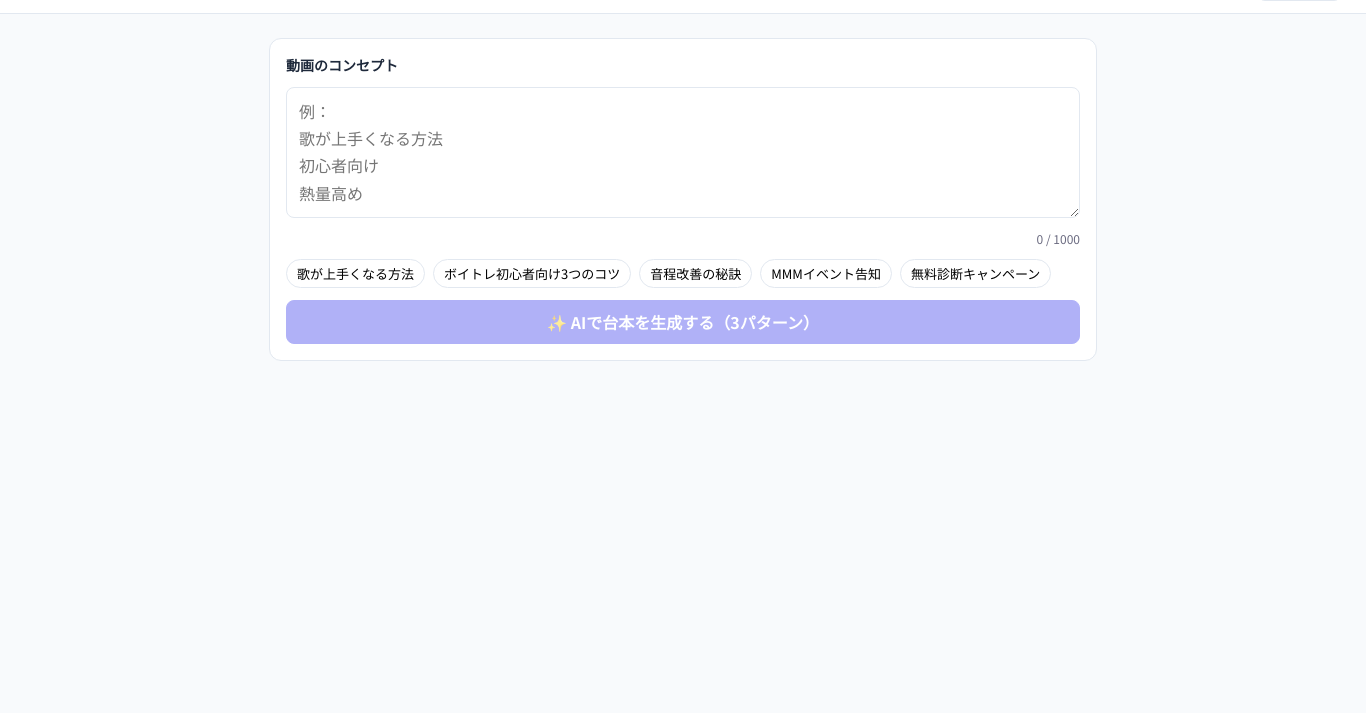
Scenario: ScriptMode → Wizard の受け渡し（App） › 受け渡し後にWizardを再renderしても、ScriptModeへ戻らず台本のカードが保たれる
The width and height of the screenshot is (1366, 713).
Step 1. Type "歌が上手くなる方法" into the text box labelled "動画のコンセプト" → (683, 152), box [286,87,1080,218]
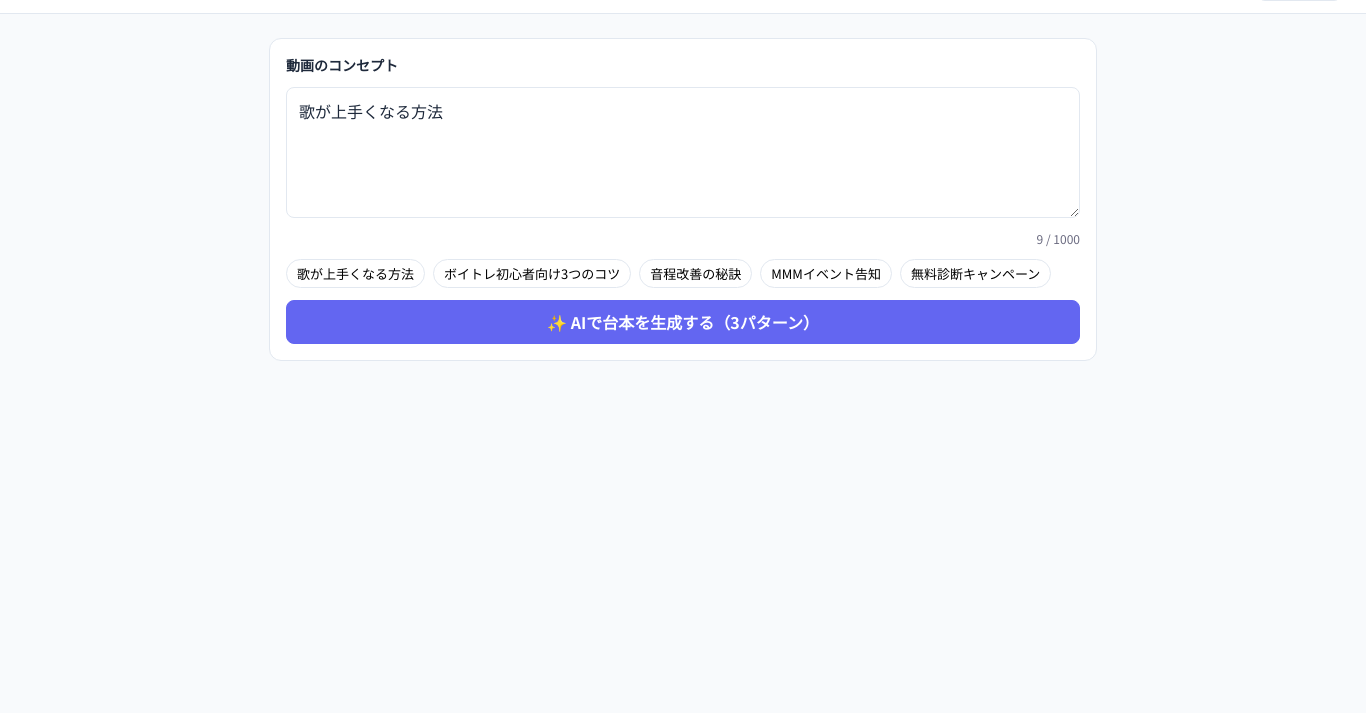
Step 2. Click the button "✨ AIで台本を生成する（3パターン）" → (683, 322), box [286,300,1080,344]
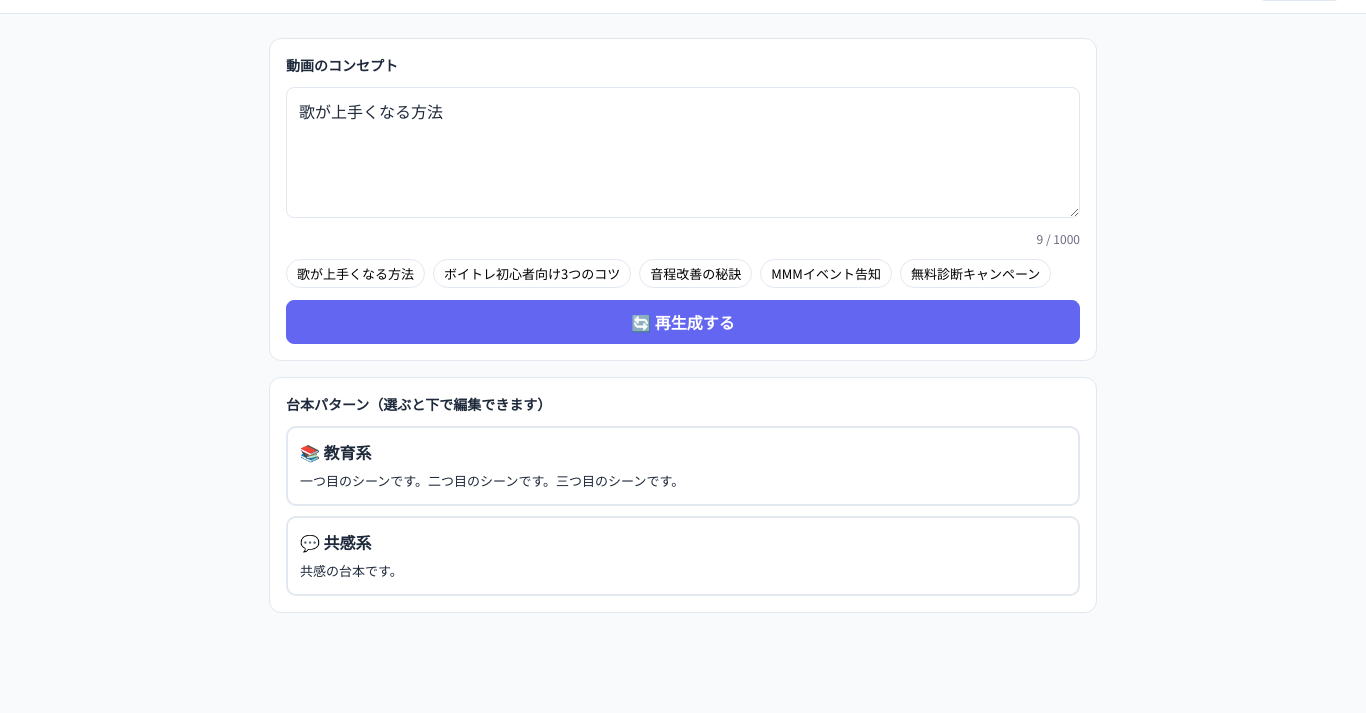
Result: the element named "台本パターン" is shown at [286,426,1080,596]
Step 3. Click the radio button labelled "📚 教育系 一つ目のシーンです。二つ目のシーンです。三つ目のシーンです。" → (348, 452), box [286,426,1080,506]
(page scrolled)
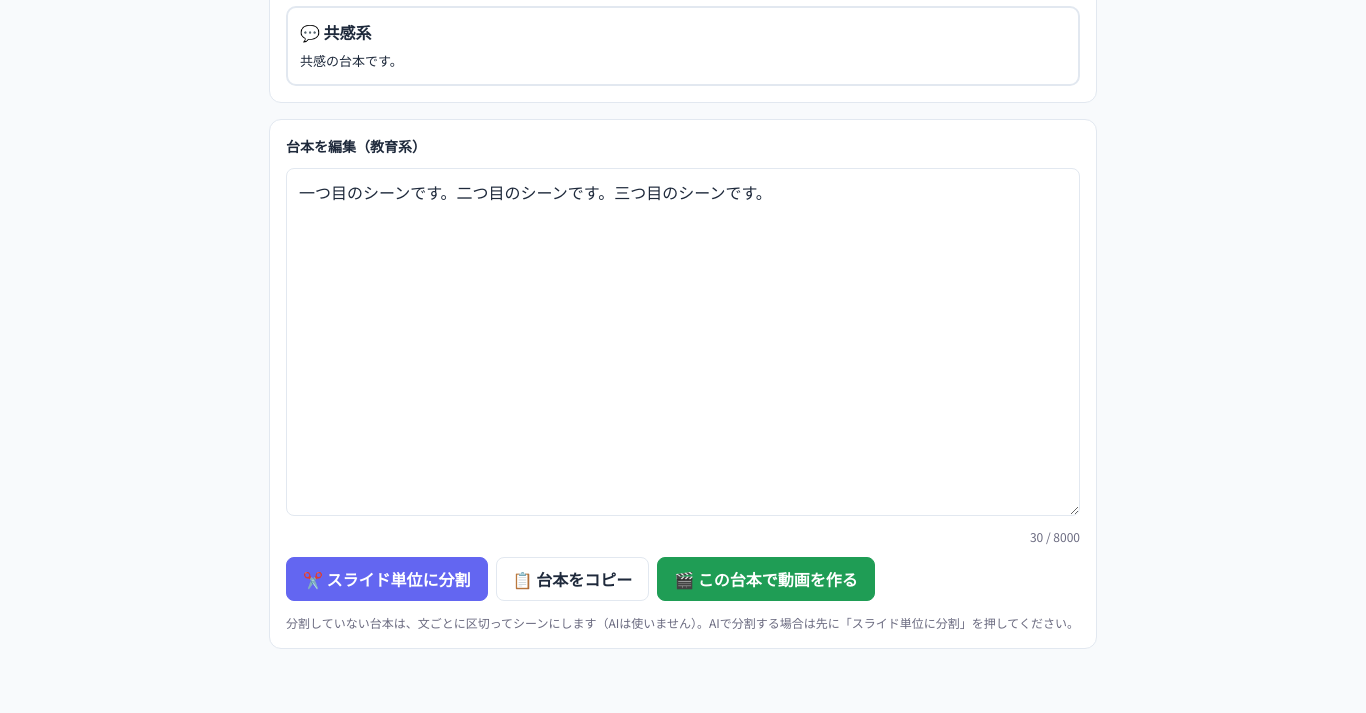
Step 4. Click the button "🎬 この台本で動画を作る" → (766, 579), box [657,557,875,601]
(page scrolled)
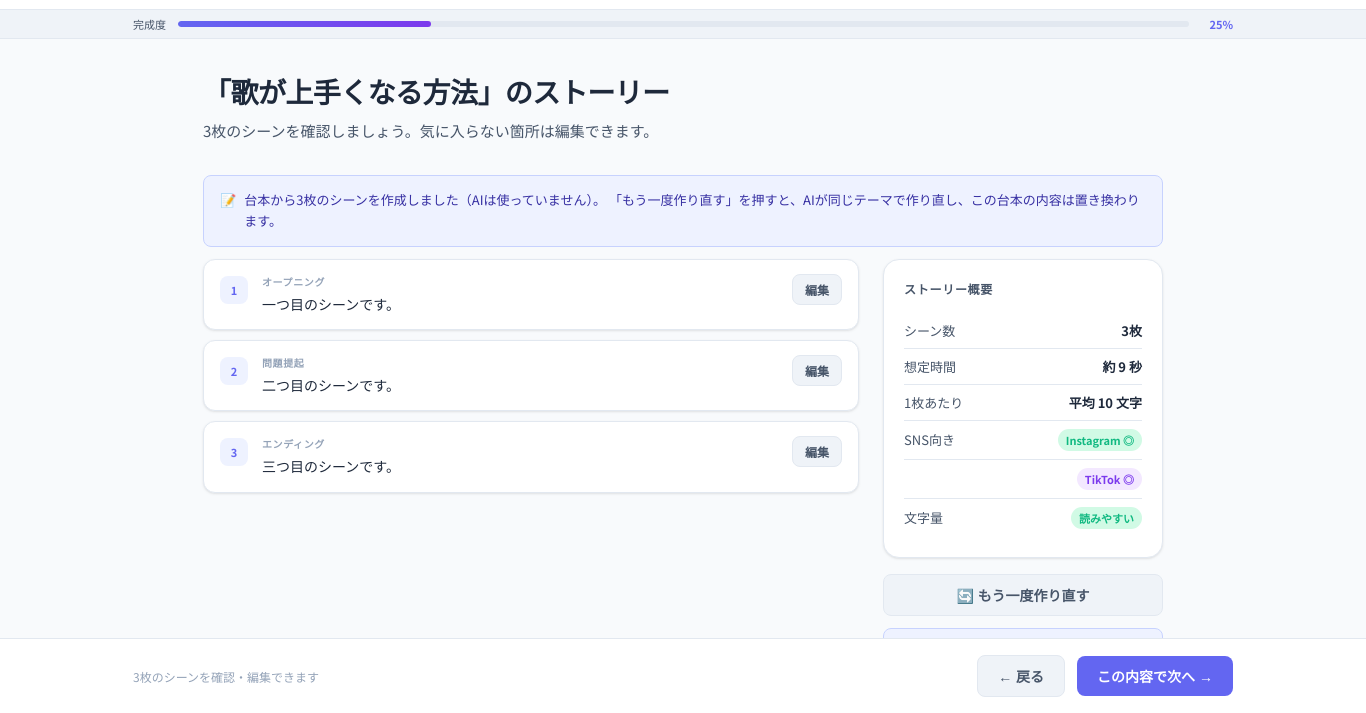
Result: the heading "「歌が上手くなる方法」のストーリー" is shown at [203,71,670,111]
Step 5. Click the button "編集" in the row of "一つ目のシーンです。" → (817, 289), box [792,274,842,305]
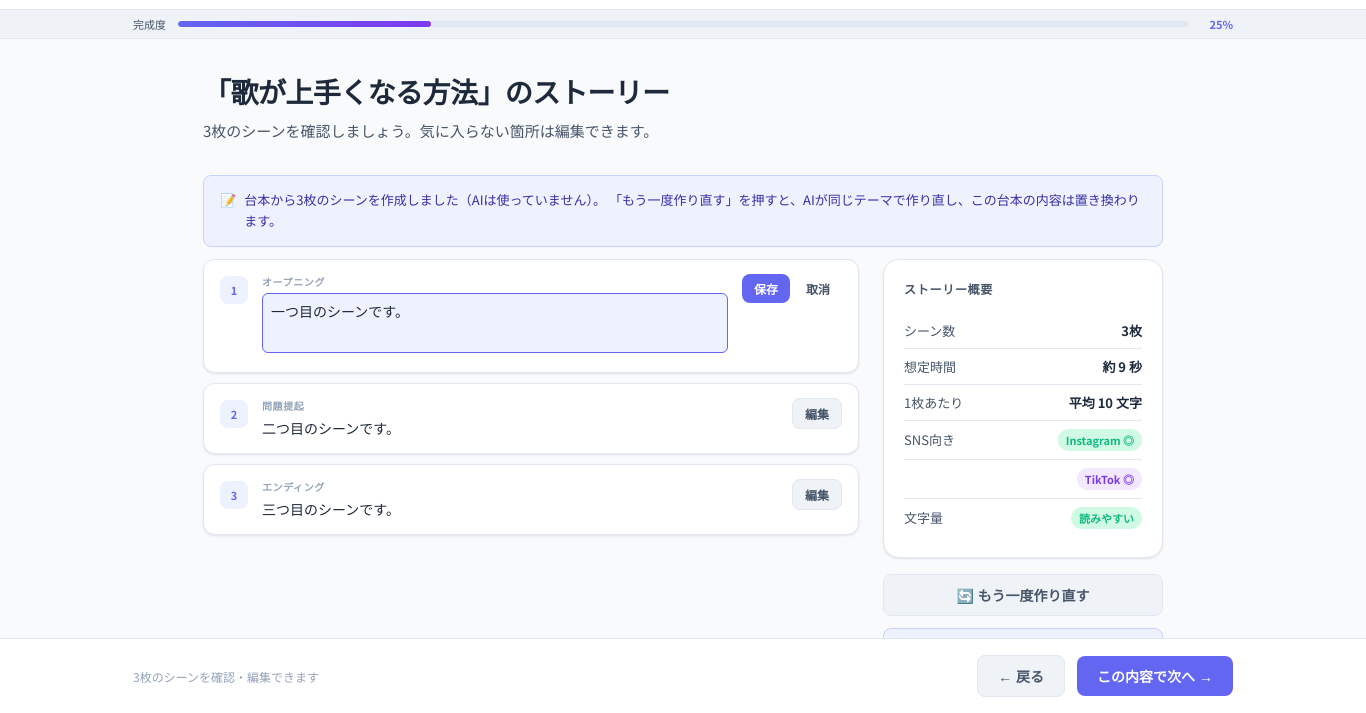
Step 6. Replace the text in the text box with class "wz-story-text-input" with "Wizardで編集" → (495, 323), box [262,293,728,353]
Step 7. Click the button "保存" → (766, 288), box [742,274,790,303]
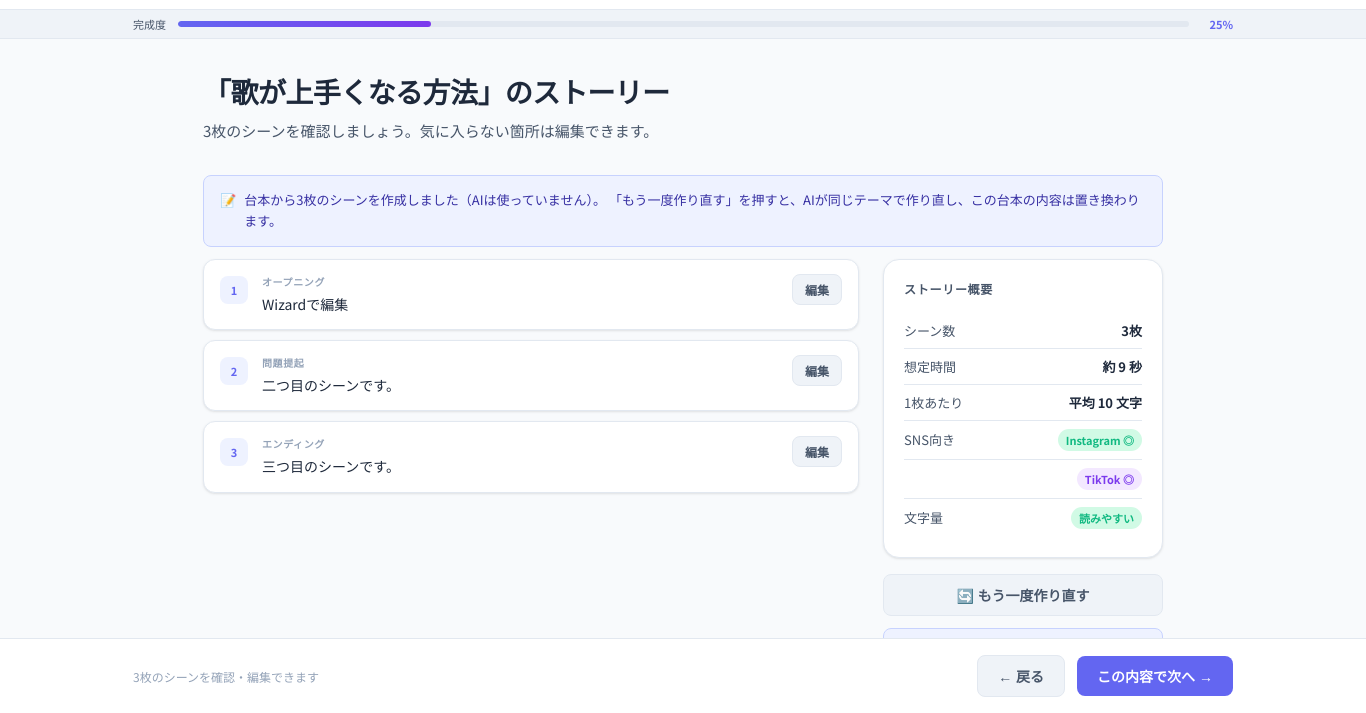
Result: the text with class "wz-story-text" reads "Wizardで編集" at [262,294,348,314]
